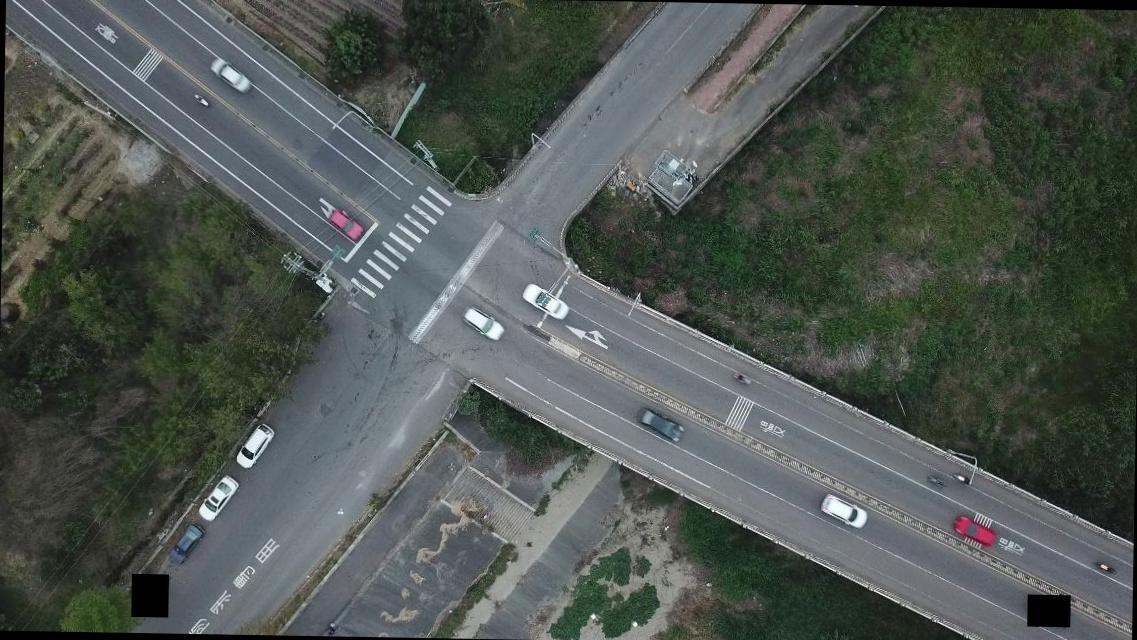vehicle: (197, 474, 240, 522), (234, 423, 274, 469), (521, 283, 570, 320), (818, 492, 867, 528), (635, 407, 684, 442), (168, 521, 204, 567), (951, 512, 996, 548), (460, 305, 504, 340), (208, 56, 250, 92), (326, 210, 364, 240)
